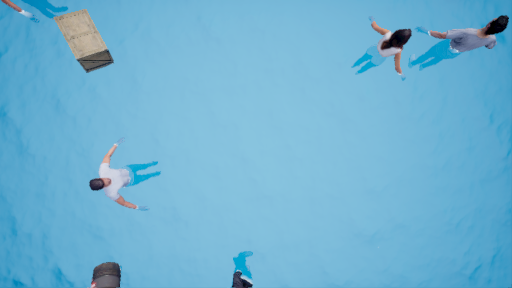person: (417, 9, 504, 76), (88, 147, 175, 211), (332, 19, 411, 85)
